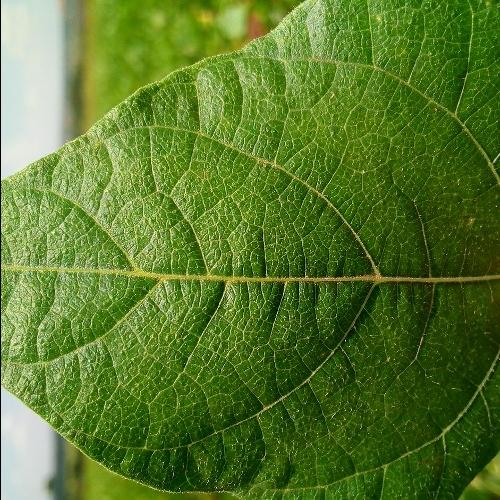sehat: (61, 72, 491, 481)
